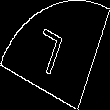L_SW: (36, 25, 74, 85)
